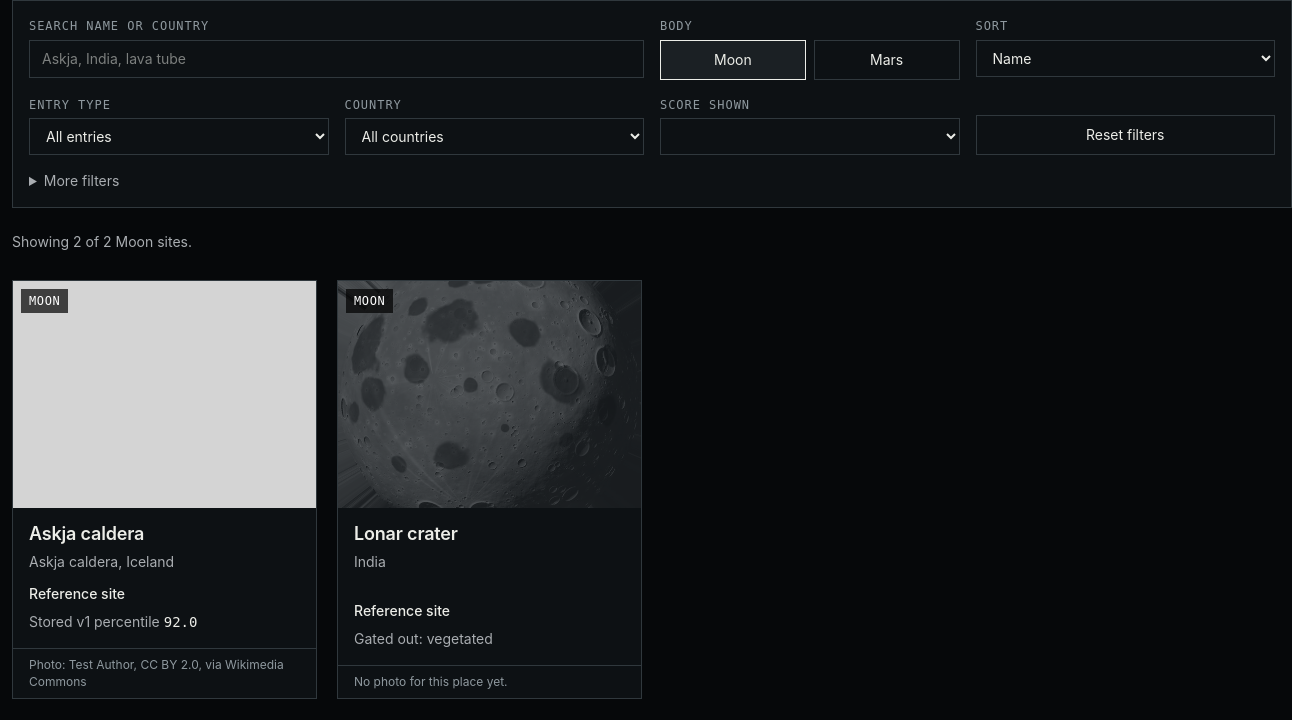
Test: Explorer gallery › switches body and shows the stored numbers
Click the radio button labelled "Mars" at (887, 60), box left=814, top=40, right=960, bottom=80
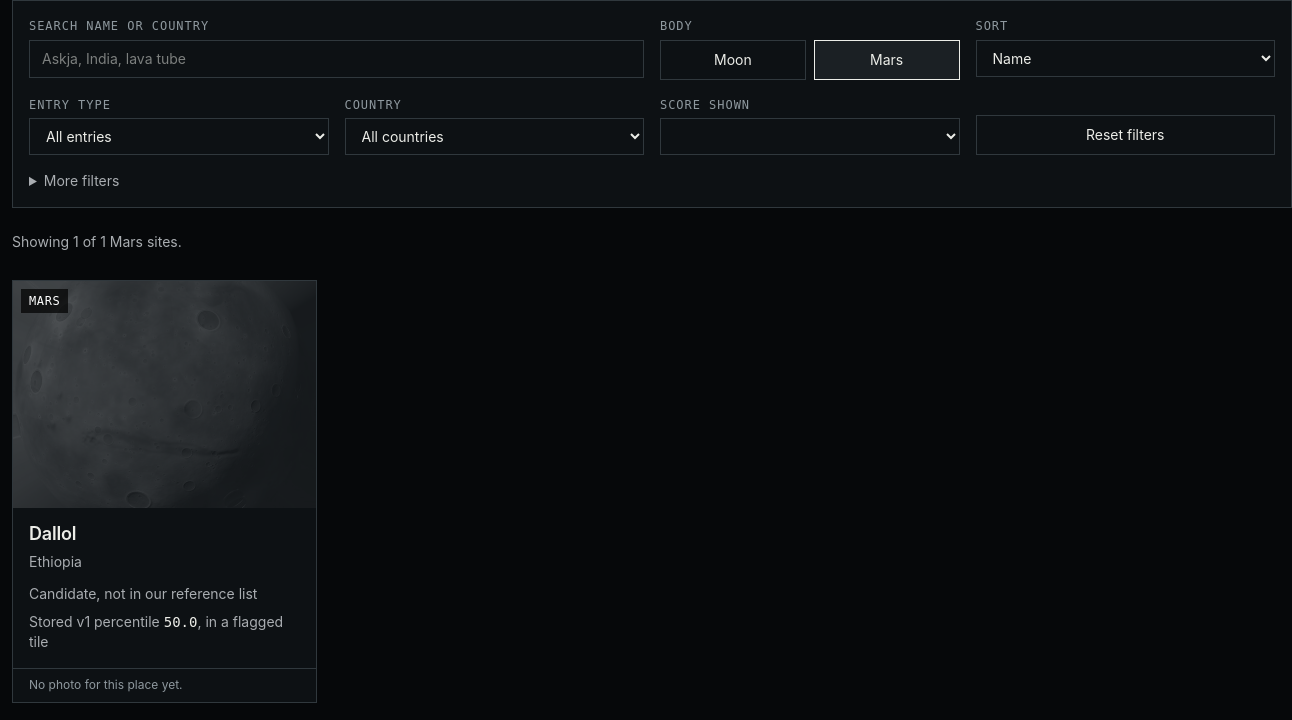
Expected: the text "50.0" is shown, left=164, top=614, right=197, bottom=630
Expected: the text "Stored v1 percentile 50.0, in a flagged tile" is shown, left=29, top=612, right=300, bottom=652
Expected: the text "Candidate, not in our reference list" is shown, left=29, top=584, right=258, bottom=604
